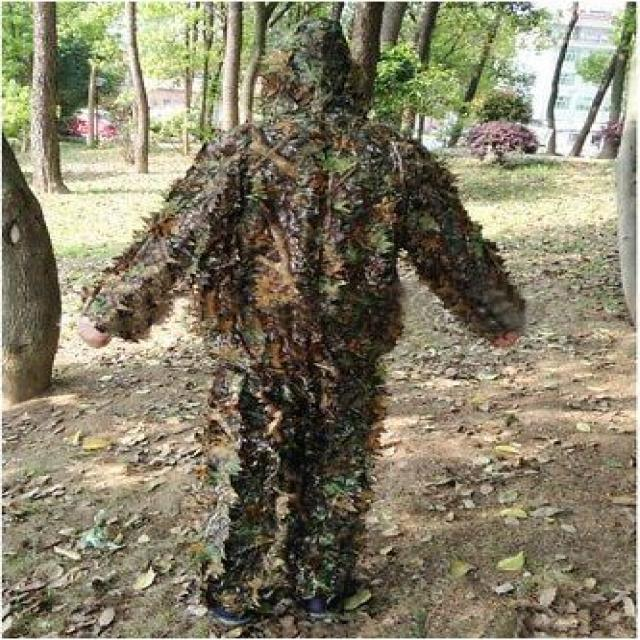Human: (76, 19, 526, 628)
